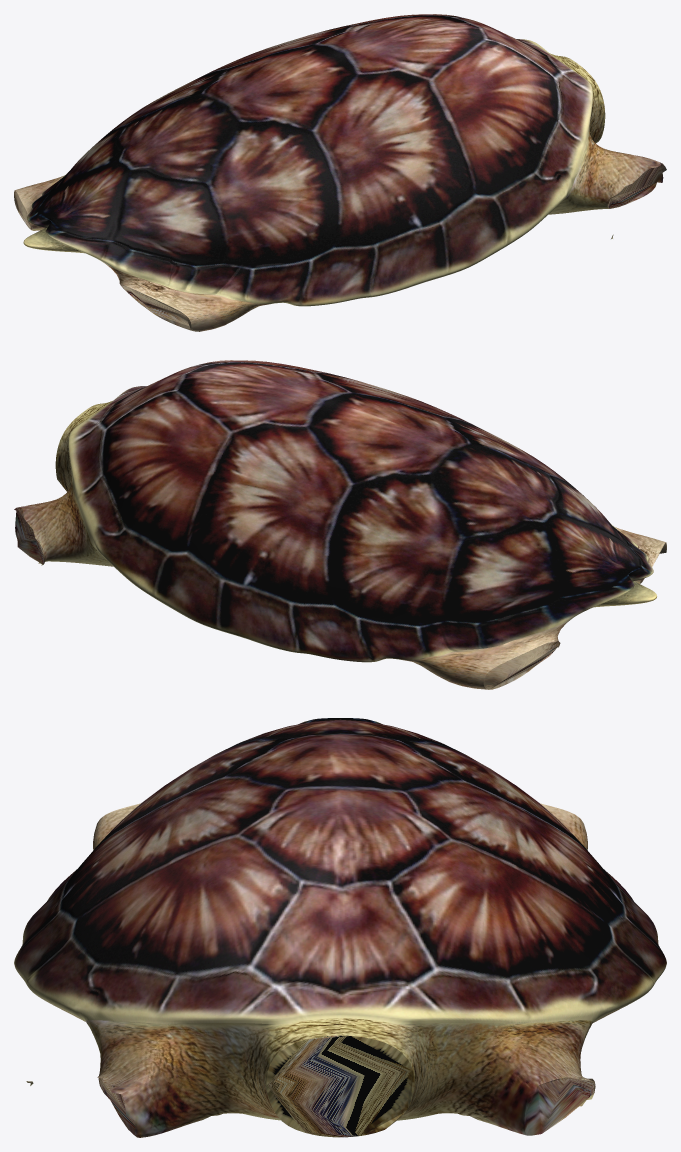
Rendered from torsoTortuga.obj.
3 renders of one model, top to bottom at view 1: azimuth 30°, elevation 25°; view 2: azimuth 150°, elevation 25°; view 3: azimuth 270°, elevation 25°, orthographic. The views are drawn at different scales.
Parts seen in each view (by area): view 1: torsoTortu; view 2: torsoTortu; view 3: torsoTortu.
Boxes of the visible parts, left/top/right/bottom form: torsoTortu: left=14, top=14, right=666, bottom=331; torsoTortu: left=14, top=360, right=666, bottom=689; torsoTortu: left=14, top=718, right=666, bottom=1137.
Size of the model in its own units: 18.45 by 6.08 by 13.43.
